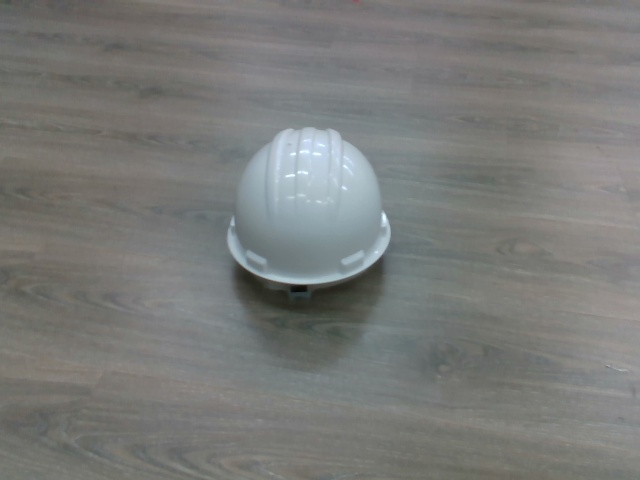helmet: (227, 126, 394, 302)
